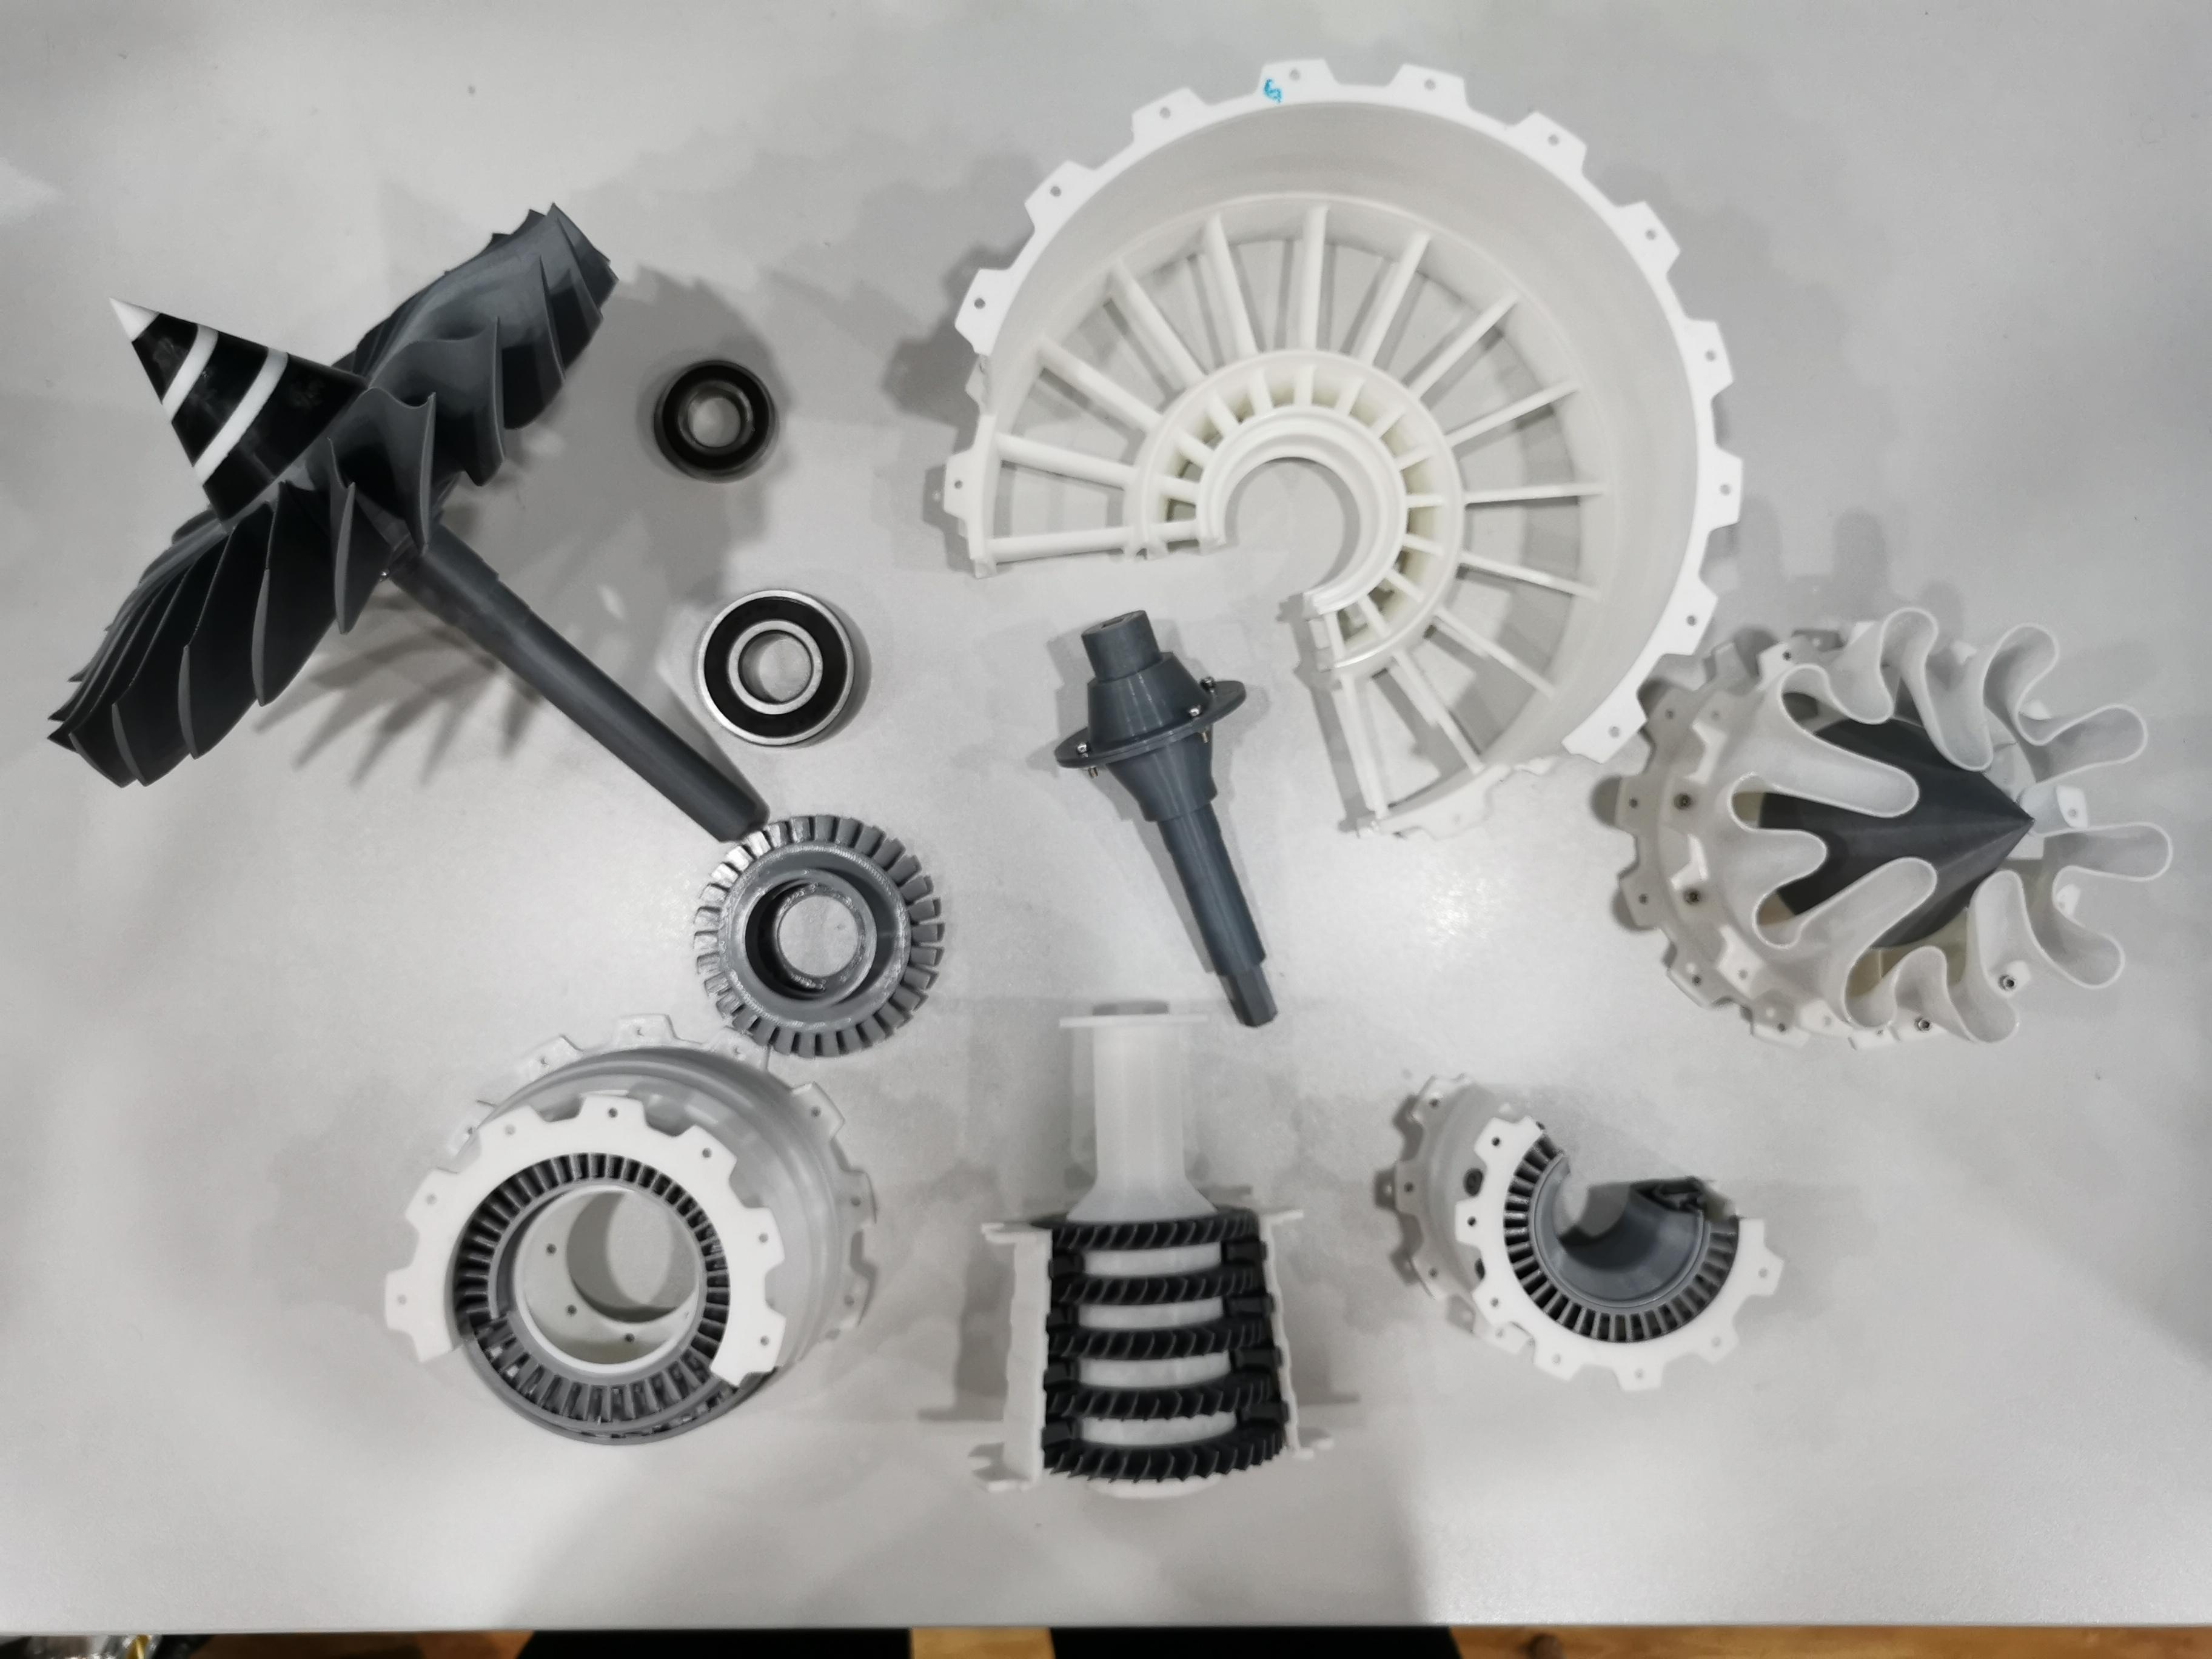Bearing-6003: (632, 340, 805, 491)
Bearing-6204: (679, 575, 890, 769)
Combustion Section: (1372, 1053, 1799, 1419)
Fan Casing and Support: (928, 38, 1761, 840)
Fan and Low Pressure Shaft: (37, 197, 765, 842)
HPT Section: (671, 812, 968, 1063)
High Pressure Spool: (967, 983, 1352, 1521)
LPT Section: (371, 1007, 888, 1459)
Low Pressure Spool: (1047, 599, 1289, 1030)
Nozzle Section: (1601, 594, 2181, 1053)
